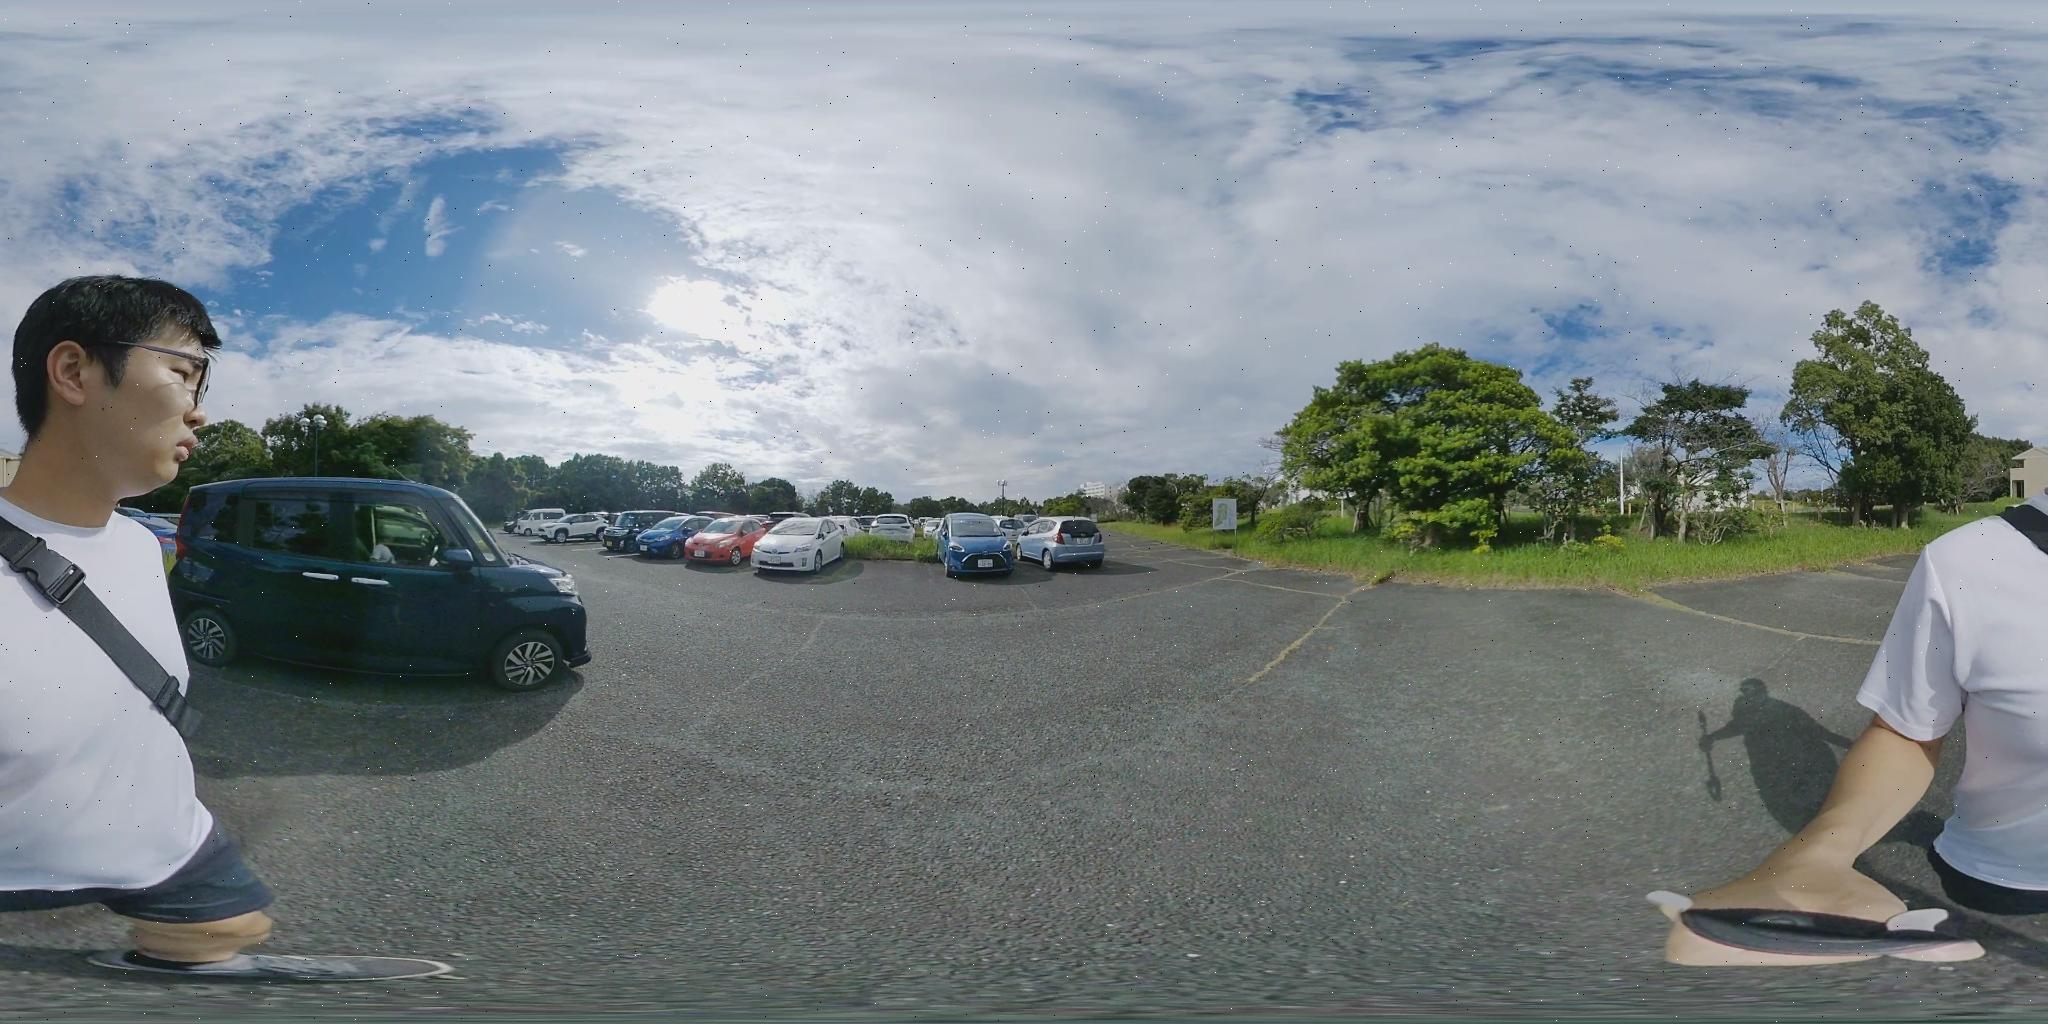car: (168, 485, 596, 692), (744, 516, 861, 576), (1008, 515, 1108, 569), (936, 515, 1021, 577), (687, 516, 784, 567), (627, 516, 713, 558), (593, 515, 674, 554), (537, 515, 607, 543), (512, 512, 575, 542), (862, 517, 910, 538)
